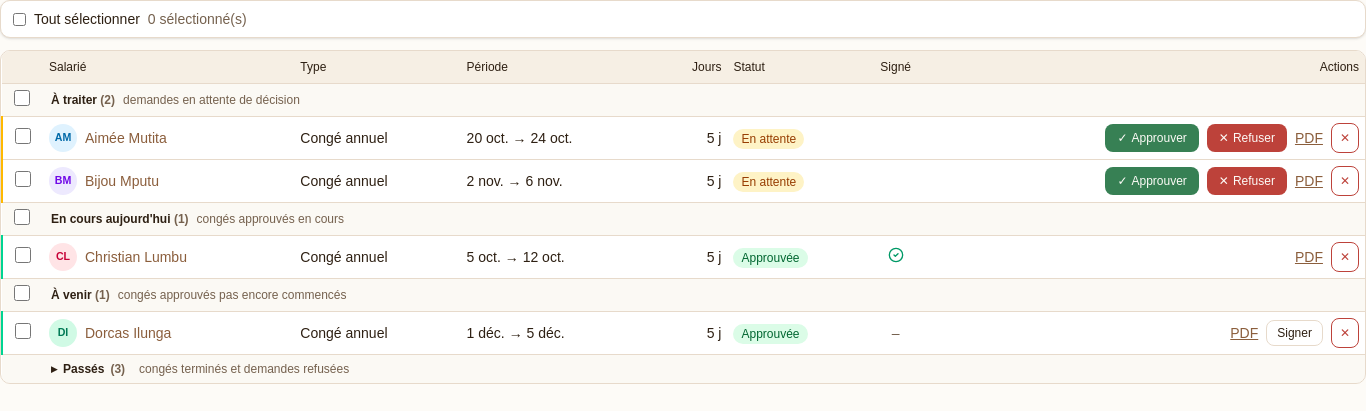
Test case: actions groupées › cocher une ligne fait apparaître la barre ; 1 en attente cochée : Approuver (1) Refuser (1) PDF (1) Supprimer (1)
Click the checkbox named "Sélectionner la demande de Aimée Mutita (Congé annuel)": {"x": 23, "y": 136} [15,128,31,144]
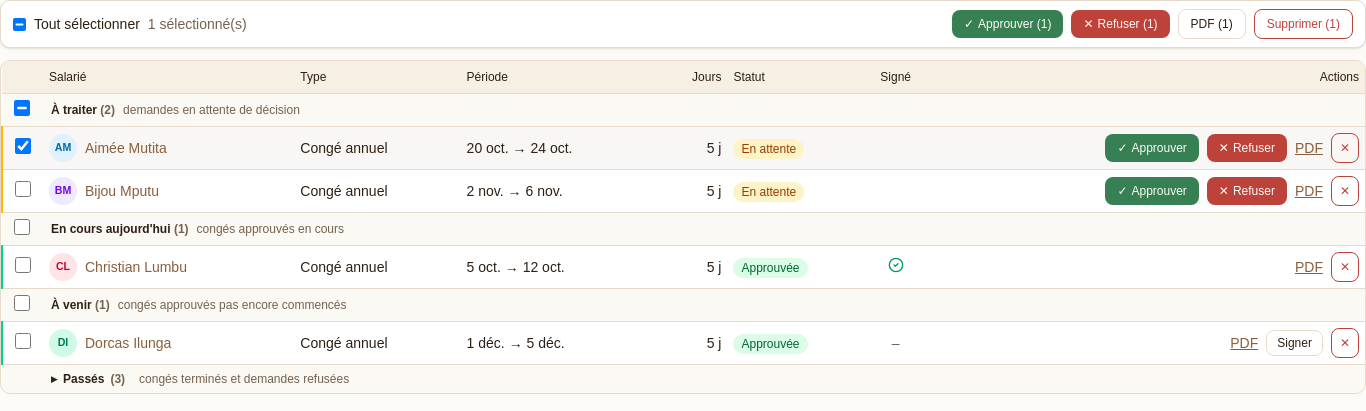
Expected: the text "1 sélectionné(s)" is shown, [148,14,247,34]
Expected: the button "✓ Approuver (1)" is shown, [952,10,1064,38]
Expected: the button "✕ Refuser (1)" is shown, [1072,10,1170,38]
